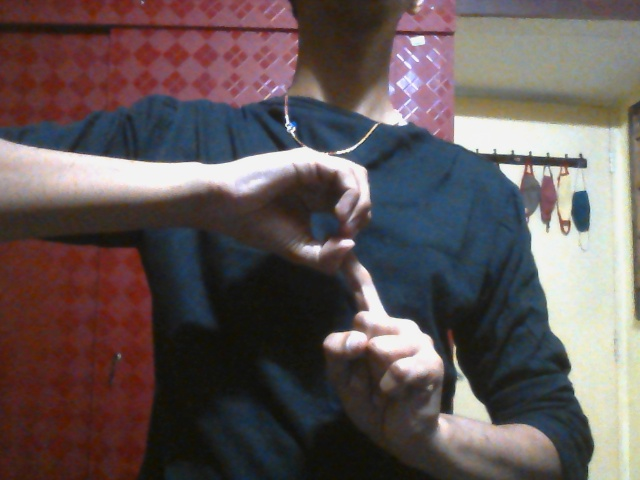Q: (219, 147, 443, 455)
